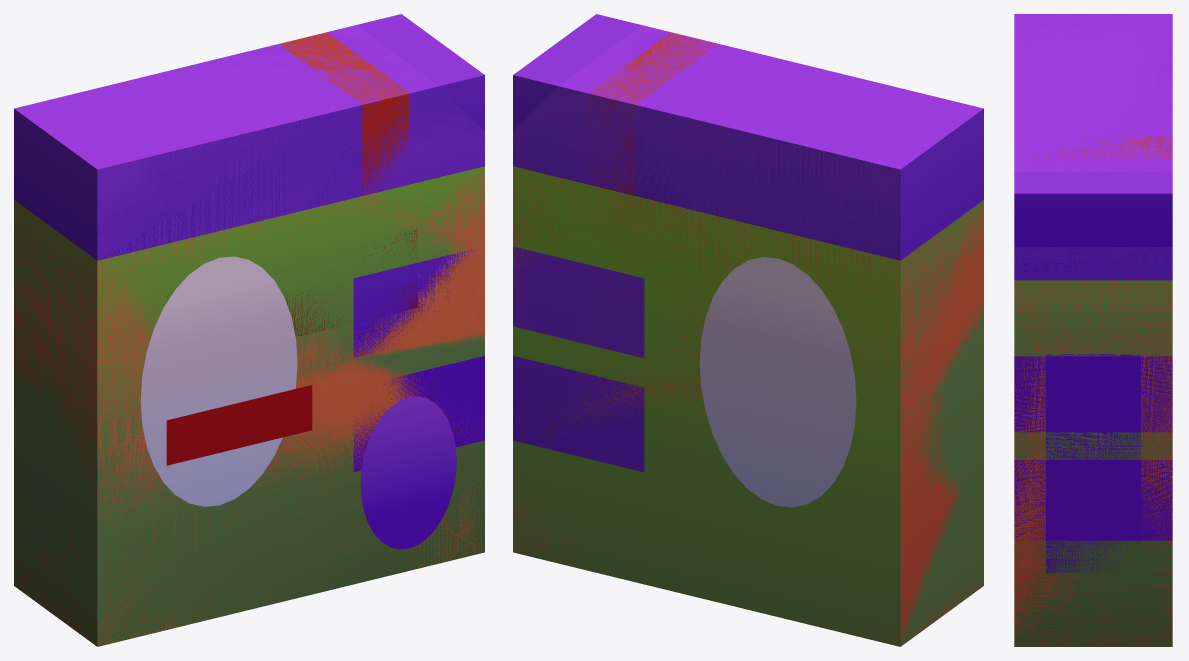
Rendered from boxes.fbx.
3 renders of one model, left to right at view 1: azimuth 30°, elevation 25°; view 2: azimuth 150°, elevation 25°; view 3: azimuth 270°, elevation 25°, orthographic. The views are drawn at different scales.
Visible parts, largest first — view 1: cereal_box6, cereal_box3; view 2: cereal_box6, cereal_box3; view 3: cereal_box6, cereal_box3.
Part boxes in pixels (x1,y1,x2,y2): cereal_box6: (14, 25, 484, 646); cereal_box3: (14, 14, 484, 646); cereal_box6: (513, 25, 983, 646); cereal_box3: (513, 14, 983, 646); cereal_box6: (1014, 14, 1172, 646); cereal_box3: (1014, 14, 1172, 646).
Size of the model in its own units: 25.58 by 30.11 by 9.8.
